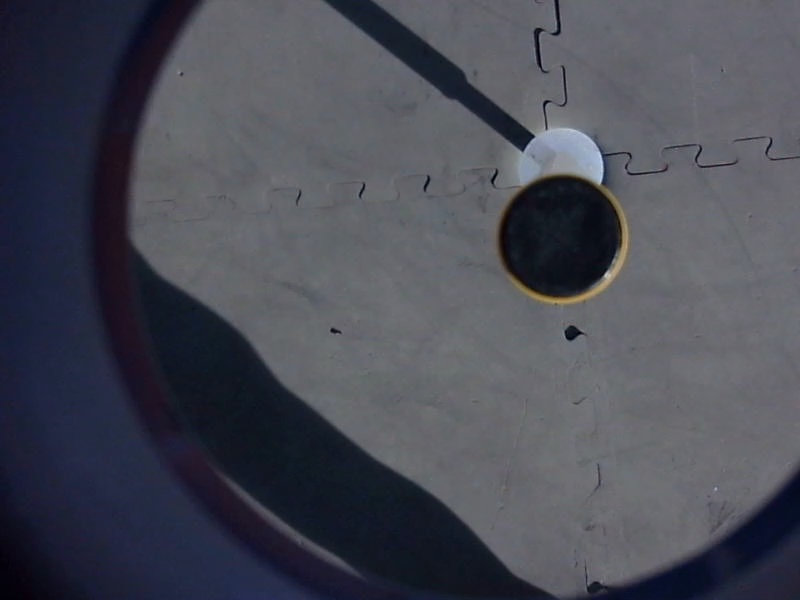tip: (492, 171, 636, 311)
